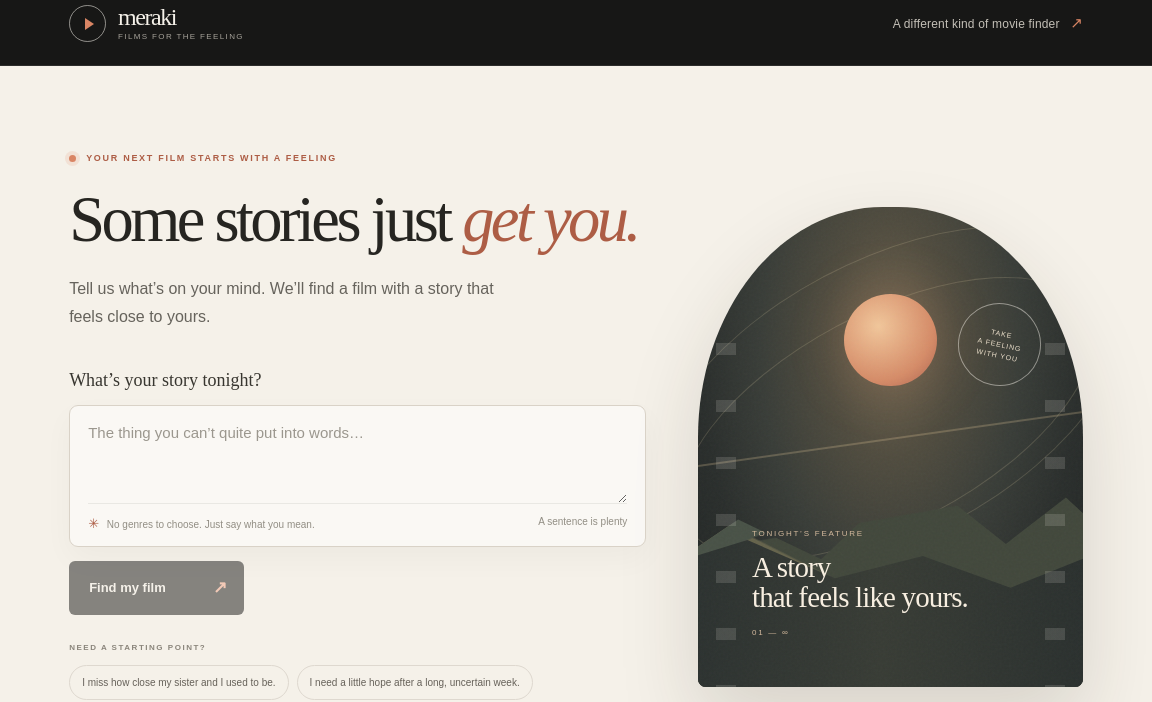
Test: story-first discovery page › sends the situation to discovery and shows the story-matched film and explanation
Type "My mom loves me but doesn’t like me." into the text box labelled "What’s your story tonight?".
click(358, 462); type("My mom loves me but doesn’t like me.")  # box 88,421 -> 627,503
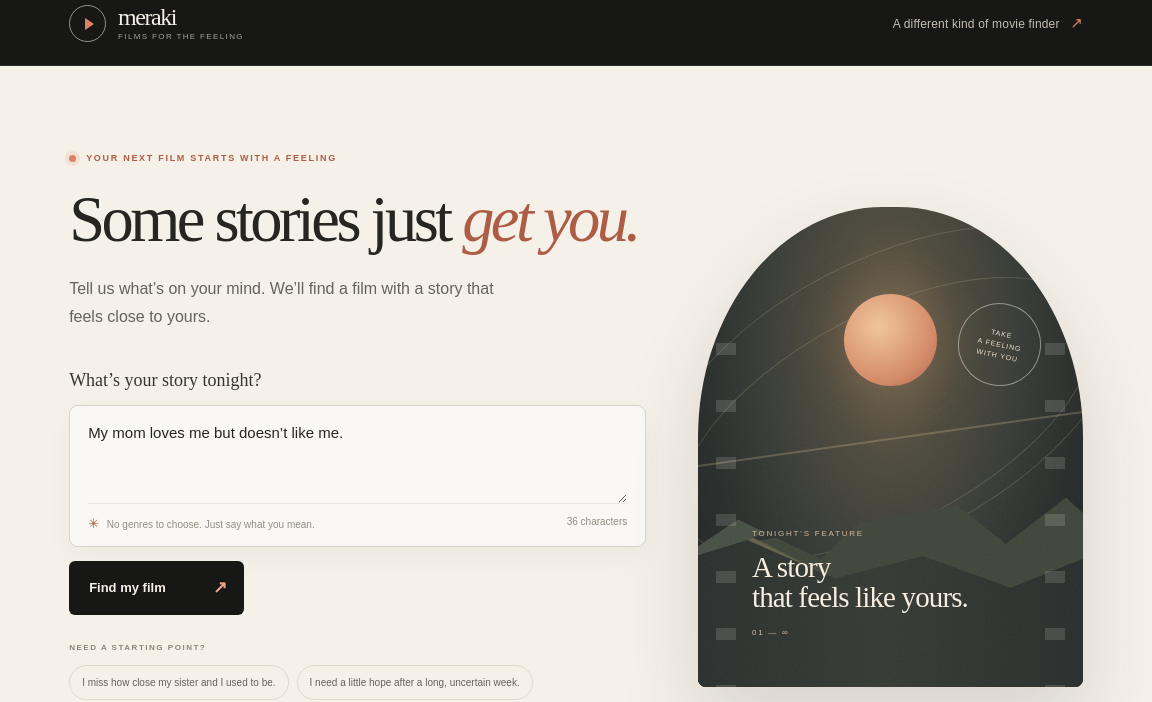
Click the button "Find my film ↗".
click(157, 588)  # box 69,561 -> 244,615
(page scrolled)
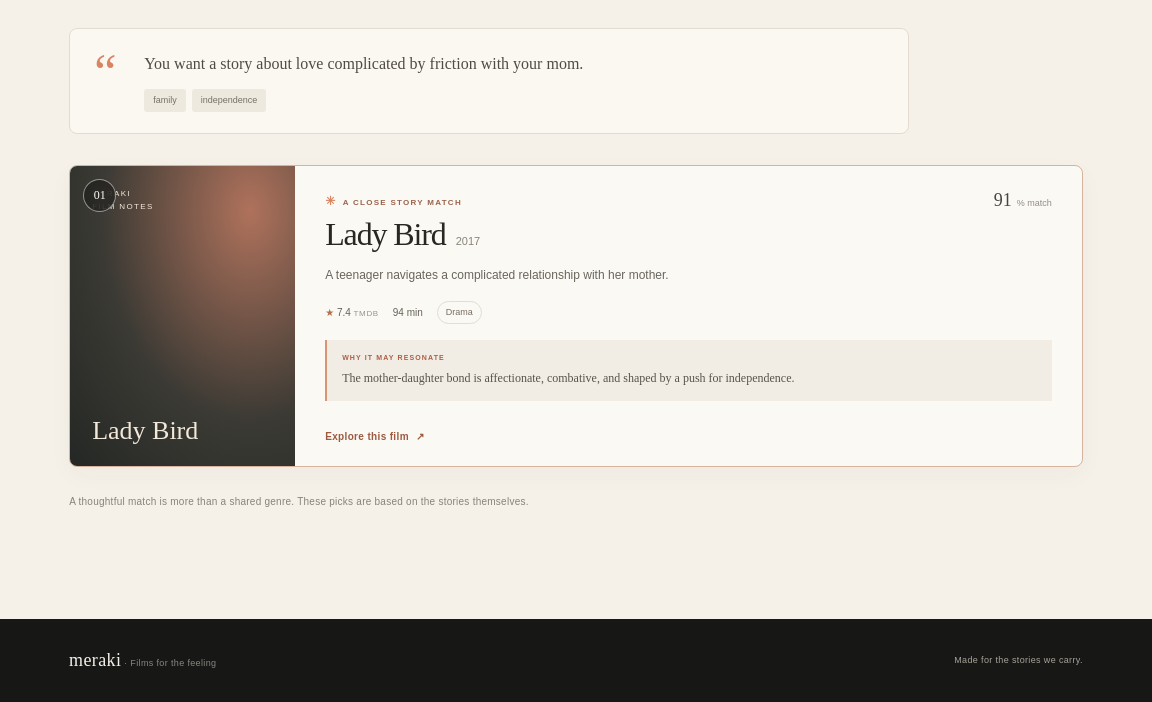
Check: the heading "Lady Bird" is shown, box 325,216 -> 446,253
Check: the text "affectionate, combative, and shaped by a push for independence" is shown, box 342,371 -> 794,385
